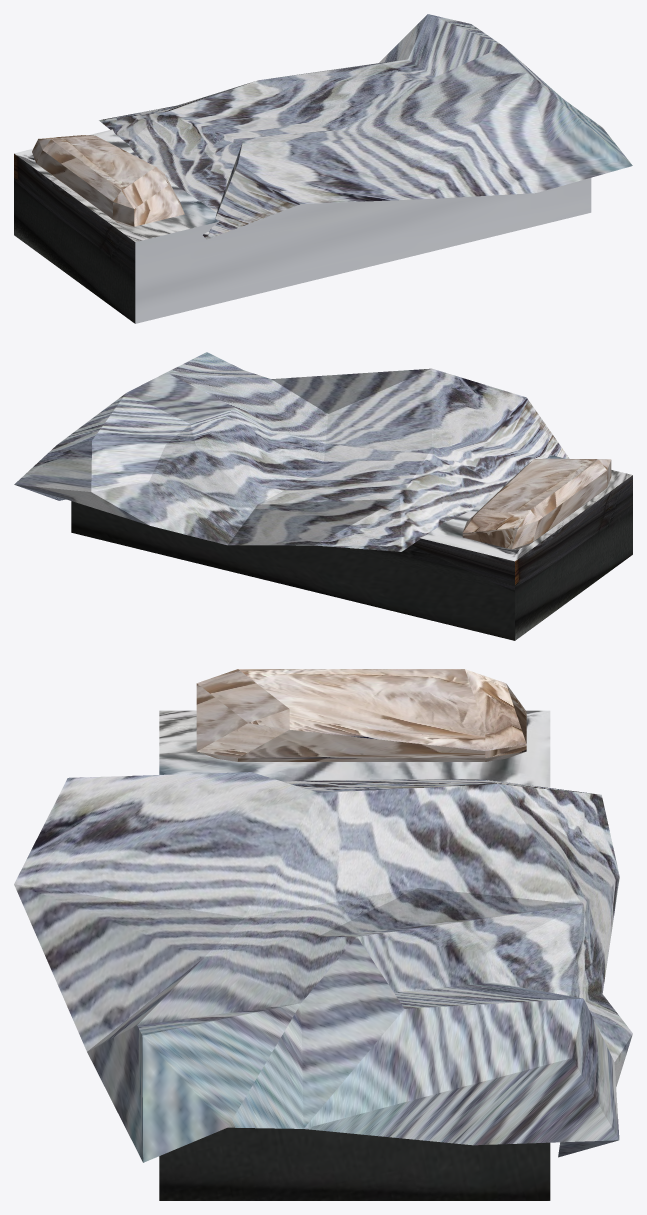
File: bed_iHC.obj
The picture shows the model from 3 angles, top to bottom: view 1: azimuth 30°, elevation 25°; view 2: azimuth 150°, elevation 25°; view 3: azimuth 270°, elevation 25°; orthographic projection. The views are drawn at different scales.
Visible parts, largest first — view 1: plane, cama, beveled_cuboid; view 2: plane, cama, beveled_cuboid; view 3: plane, cama, beveled_cuboid.
Boxes of the visible parts, box(x1,y1,x2,y2) form: plane: box(99, 14, 632, 239); cama: box(14, 129, 591, 323); beveled_cuboid: box(32, 135, 184, 226); plane: box(14, 352, 569, 551); cama: box(71, 455, 632, 640); beveled_cuboid: box(462, 458, 611, 549); plane: box(14, 772, 632, 1162); cama: box(159, 710, 550, 1200); beveled_cuboid: box(196, 669, 526, 761).
Bounding box in the file's own units: 7.3 × 1.61 × 4.92.
Materials: 3 (3 with a texture image).
